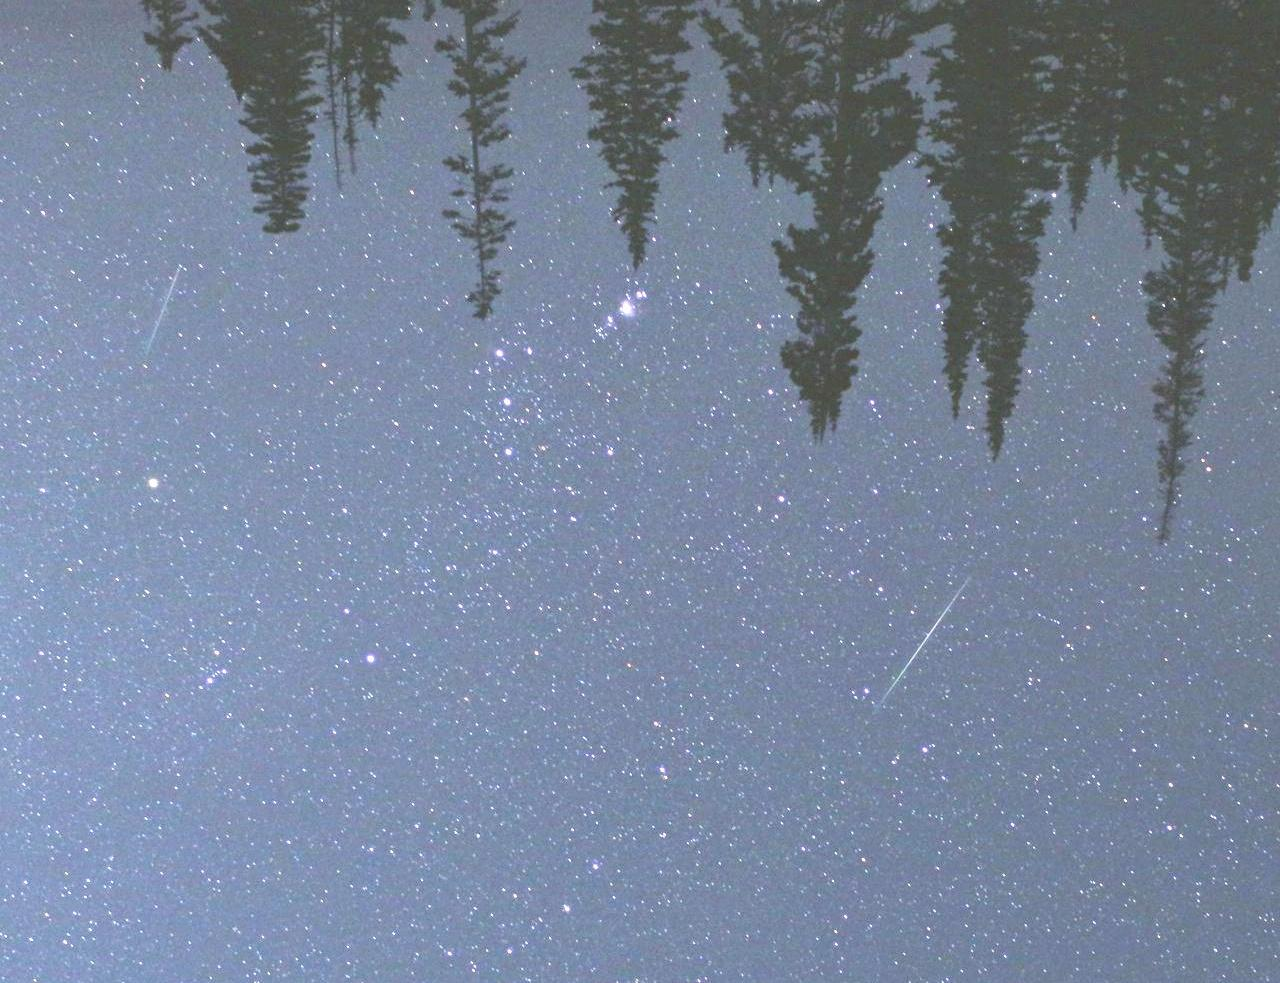meteorite: (840, 586, 984, 716), (106, 249, 203, 358)
